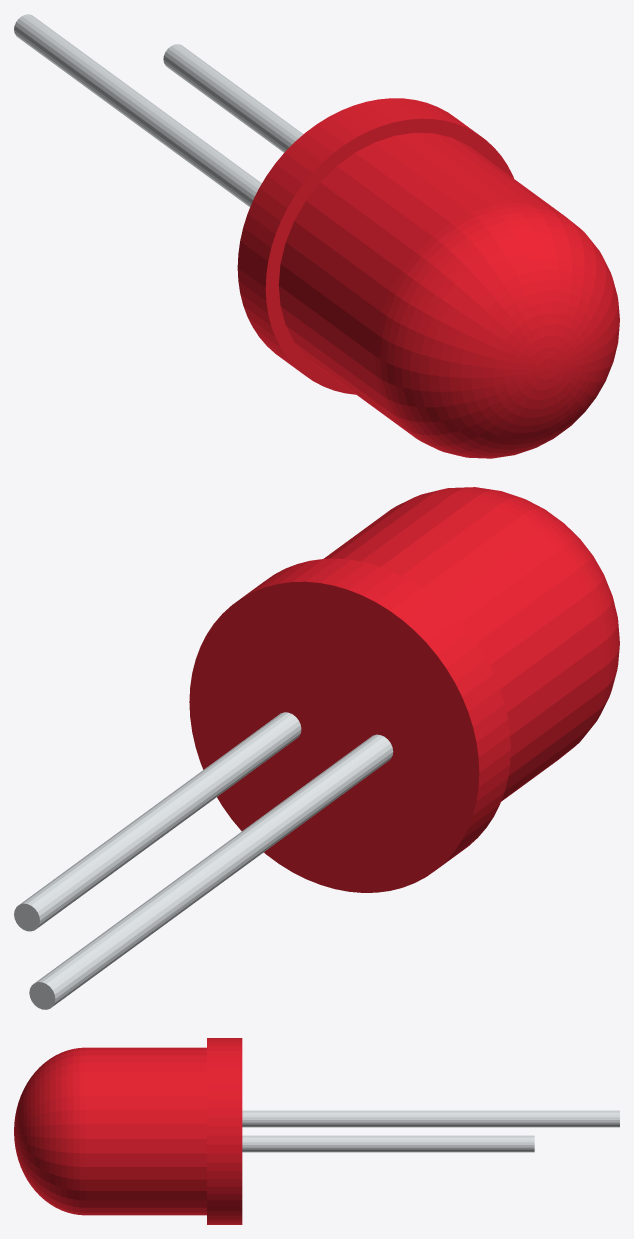
Rendered from tinker.obj.
3 views of the same model, one above another, from view 1: azimuth 30°, elevation 25°; view 2: azimuth 150°, elevation 25°; view 3: azimuth 270°, elevation 25° (orthographic). The views are drawn at different scales.
Visible parts, largest first — view 1: group_0_15277357, group_0_14541540; view 2: group_0_15277357, group_0_14541540; view 3: group_0_15277357, group_0_14541540.
Boxes of the visible parts, box(x1,y1,x2,y2) form: group_0_15277357: box(237, 98, 619, 458); group_0_14541540: box(14, 14, 303, 206); group_0_15277357: box(189, 487, 619, 892); group_0_14541540: box(14, 712, 393, 1009); group_0_15277357: box(14, 1038, 242, 1224); group_0_14541540: box(242, 1110, 619, 1152).
Bounding box in the file's own units: 11 × 11 × 35.65.
